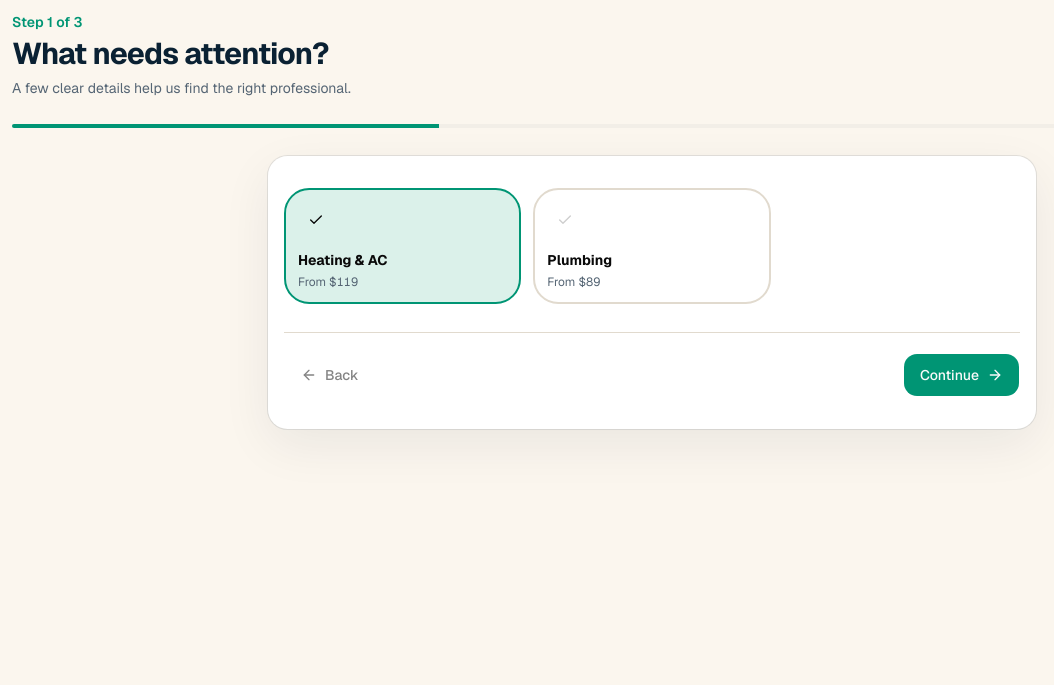
Scenario: request form › opens the description step when the booking link names a known service
Click the button "Continue". click: (961, 375)
box: x1=903 y1=353 x2=1020 y2=397
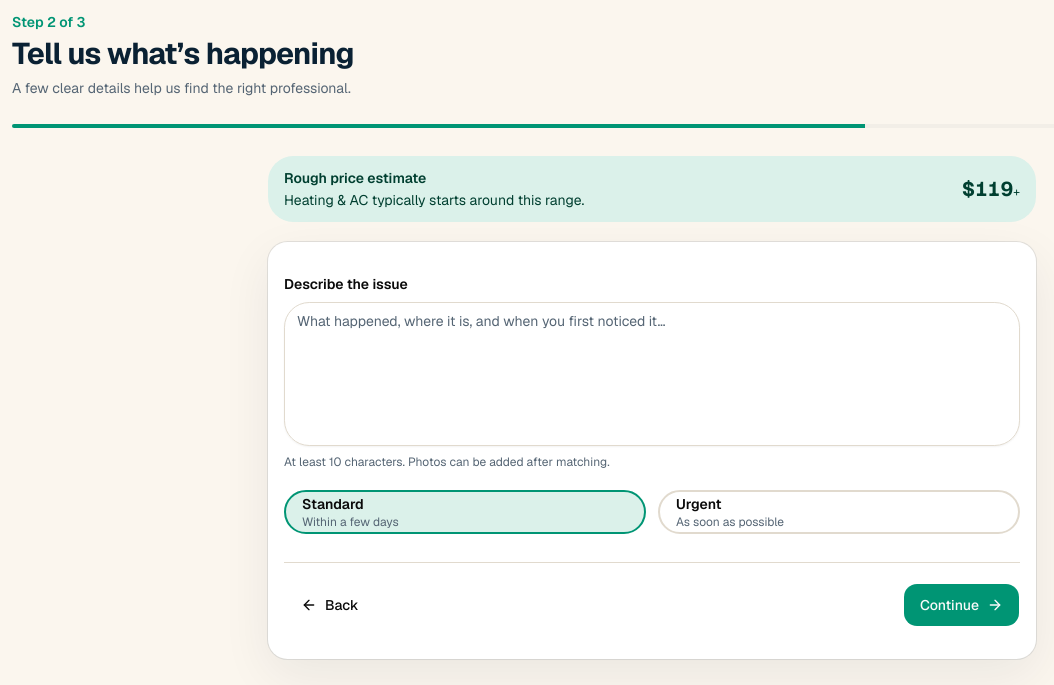
Result: the text box labelled "Describe the issue" is shown at x1=284 y1=302 x2=1020 y2=446
